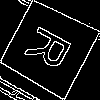R: (24, 23, 81, 78)
